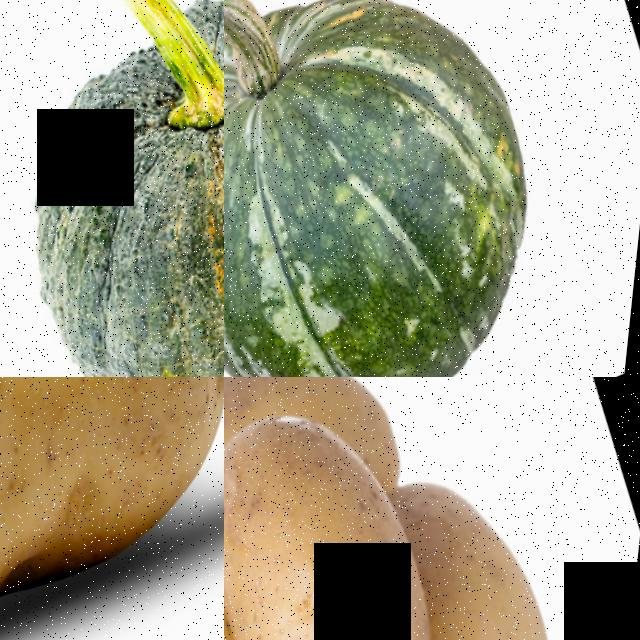potato: (224, 377, 495, 640), (0, 377, 224, 640), (371, 448, 635, 640)
pumpkin: (224, 0, 630, 377), (0, 0, 224, 377)
